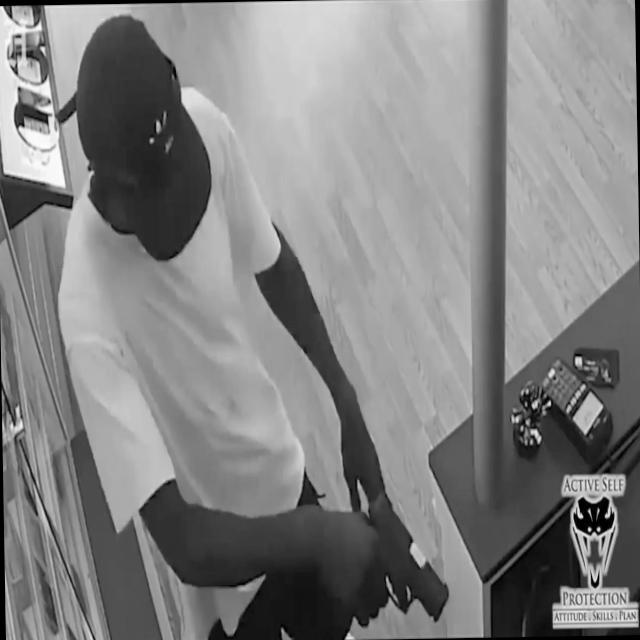gun: (334, 491, 448, 626)
person: (61, 10, 450, 640)
person with a gun: (48, 15, 63, 22)
